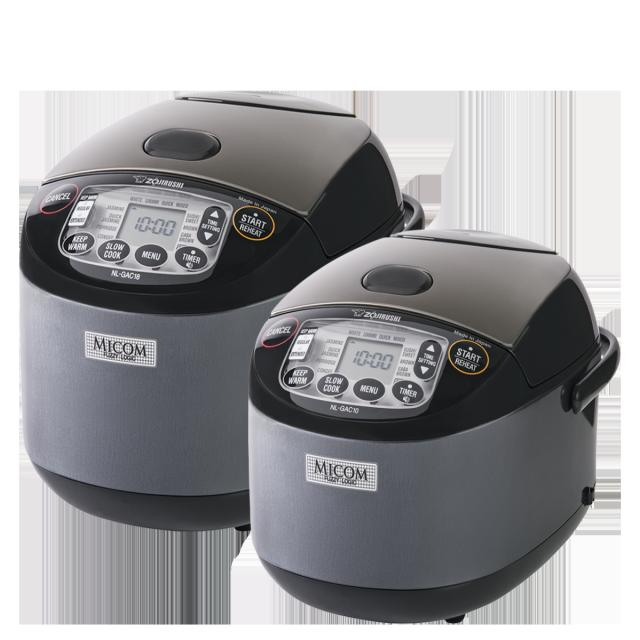appliances: (20, 92, 421, 530), (249, 230, 619, 622), (407, 200, 408, 201)
